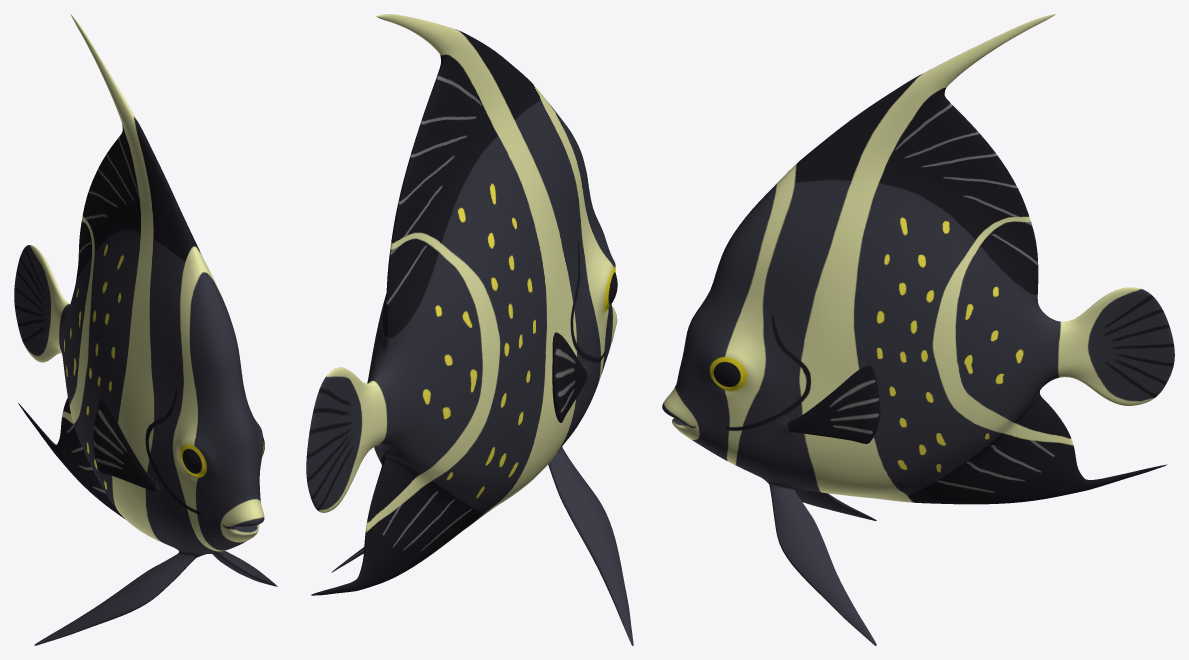
The model's file is stripefish.glb.
3 renders of one model, left to right at view 1: azimuth 30°, elevation 25°; view 2: azimuth 150°, elevation 25°; view 3: azimuth 270°, elevation 25°, orthographic. The views are drawn at different scales.
Visible parts, largest first — view 1: node_id36; view 2: node_id36; view 3: node_id36.
Part boxes in pixels (x1,y1,x2,y2): node_id36: (14, 14, 277, 645); node_id36: (306, 14, 633, 645); node_id36: (662, 14, 1174, 645).
Bounding box in the file's own units: 0.249 × 0.5286 × 0.4312.
Materials: 1 (1 with a texture image).
